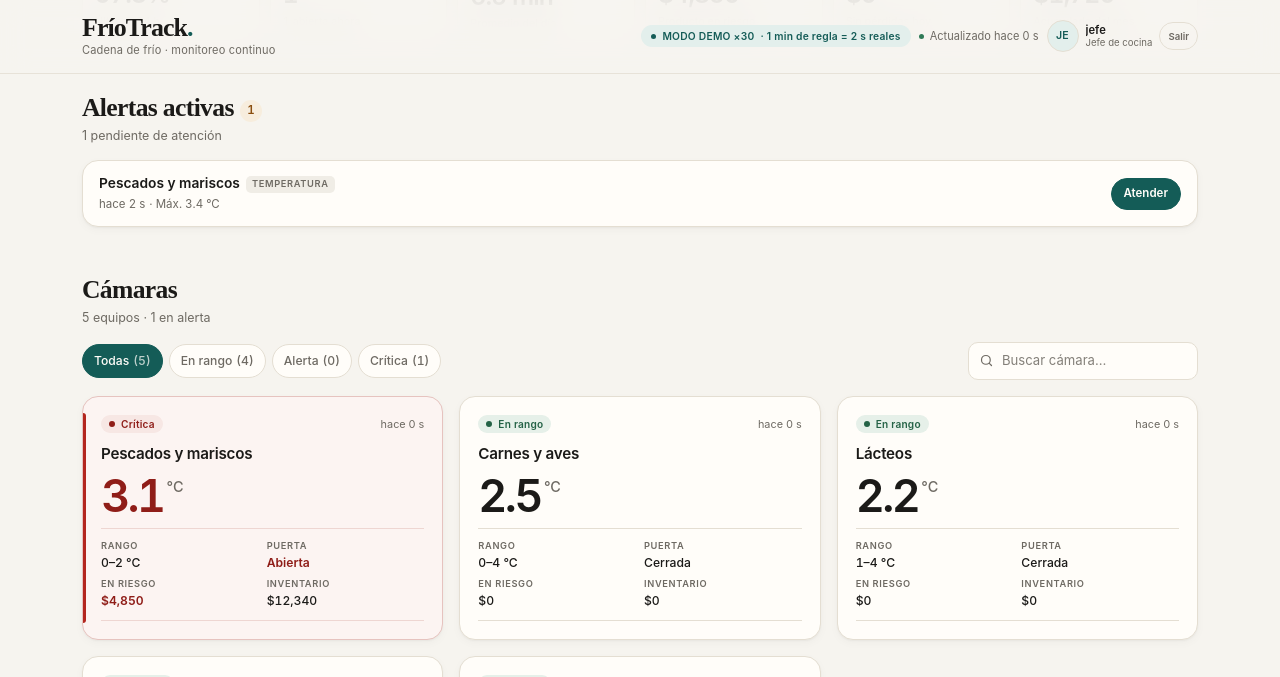
it: vista general › el filtro Crítica deja solo Pescados y mariscos y Alerta queda vacío
The width and height of the screenshot is (1280, 677).
(page scrolled)
Click the button "Crítica (1)" at (400,361), box 358,344 -> 441,378
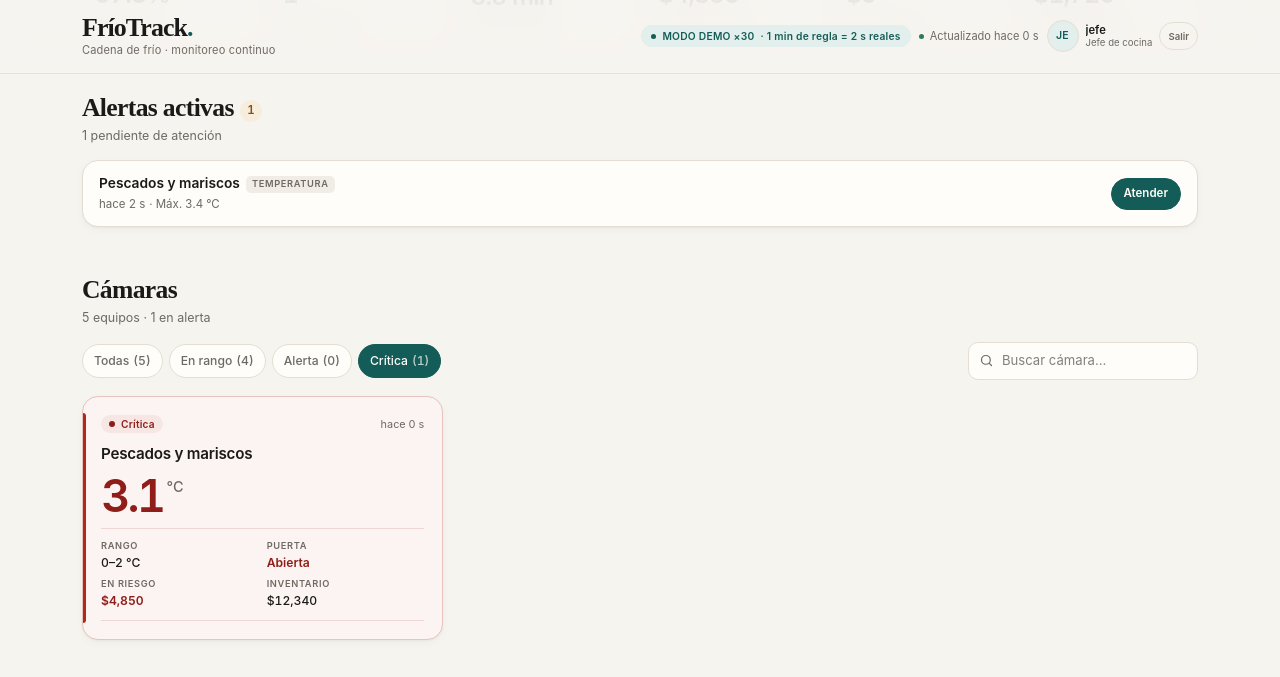
expect the element "Pescados y mariscos" is shown: met, box 82,396 -> 443,640
expect the heading "Carnes y aves" is gone: met
Click the button "Alerta (0)" at (312,361), box 272,344 -> 352,378
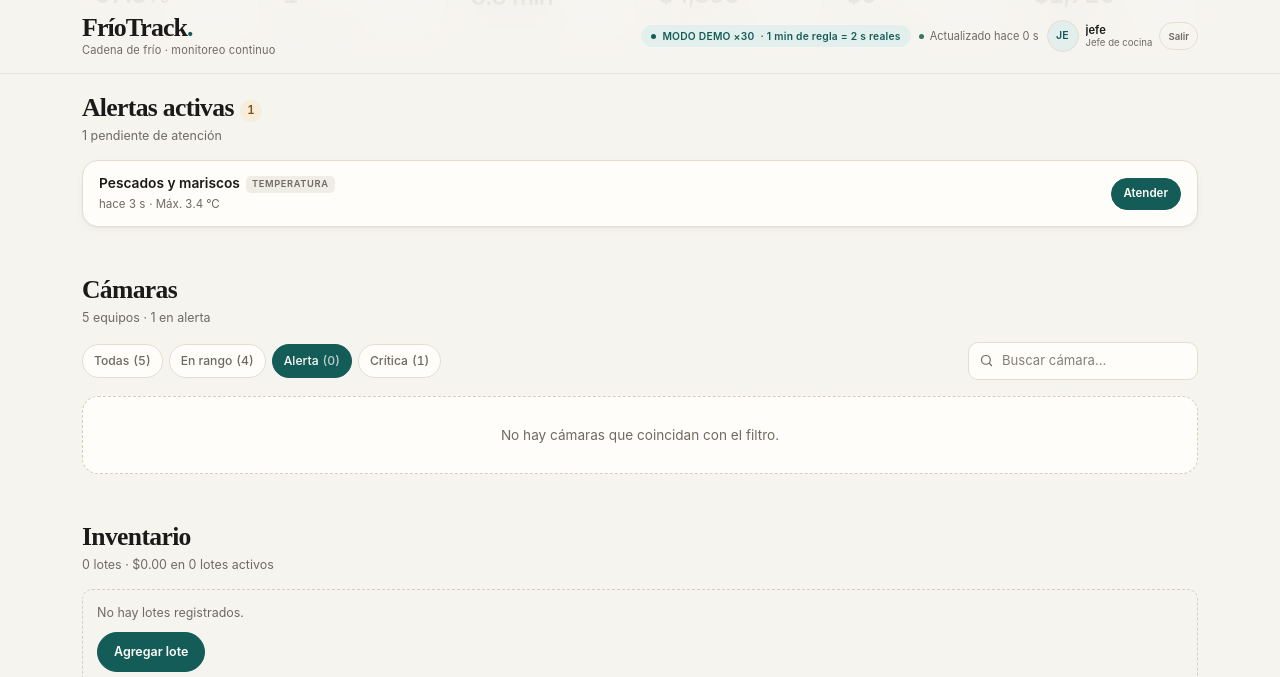
expect the text "No hay cámaras que coincidan con el filtro." is shown: met, box 82,396 -> 1198,474
